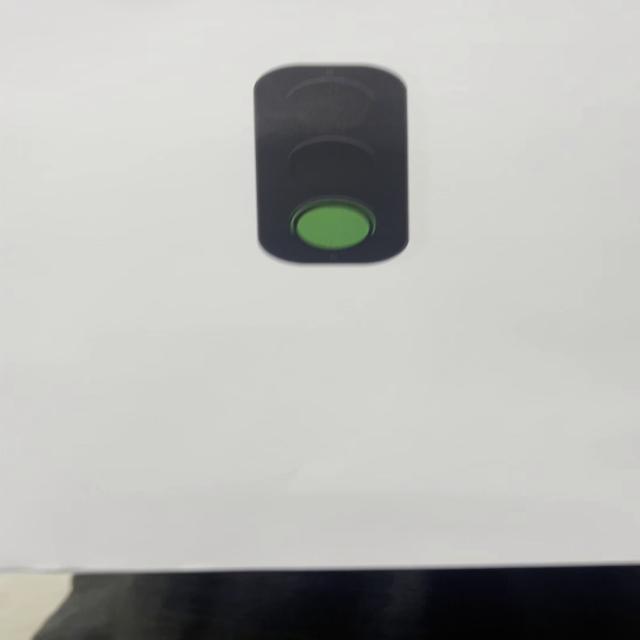green: (252, 66, 411, 265)
